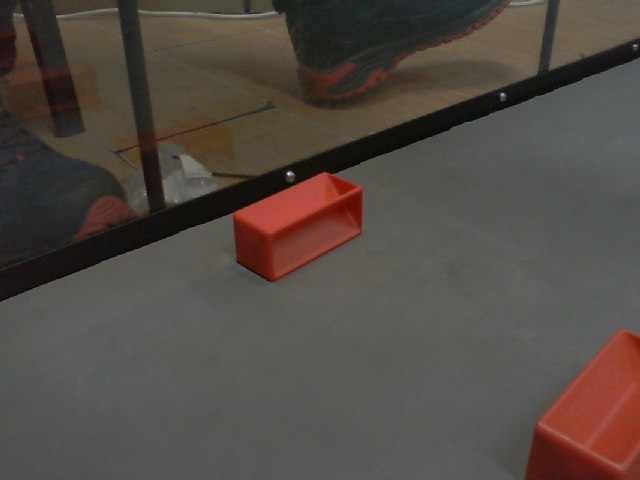RedSample: (520, 325, 640, 478), (230, 171, 366, 288)
